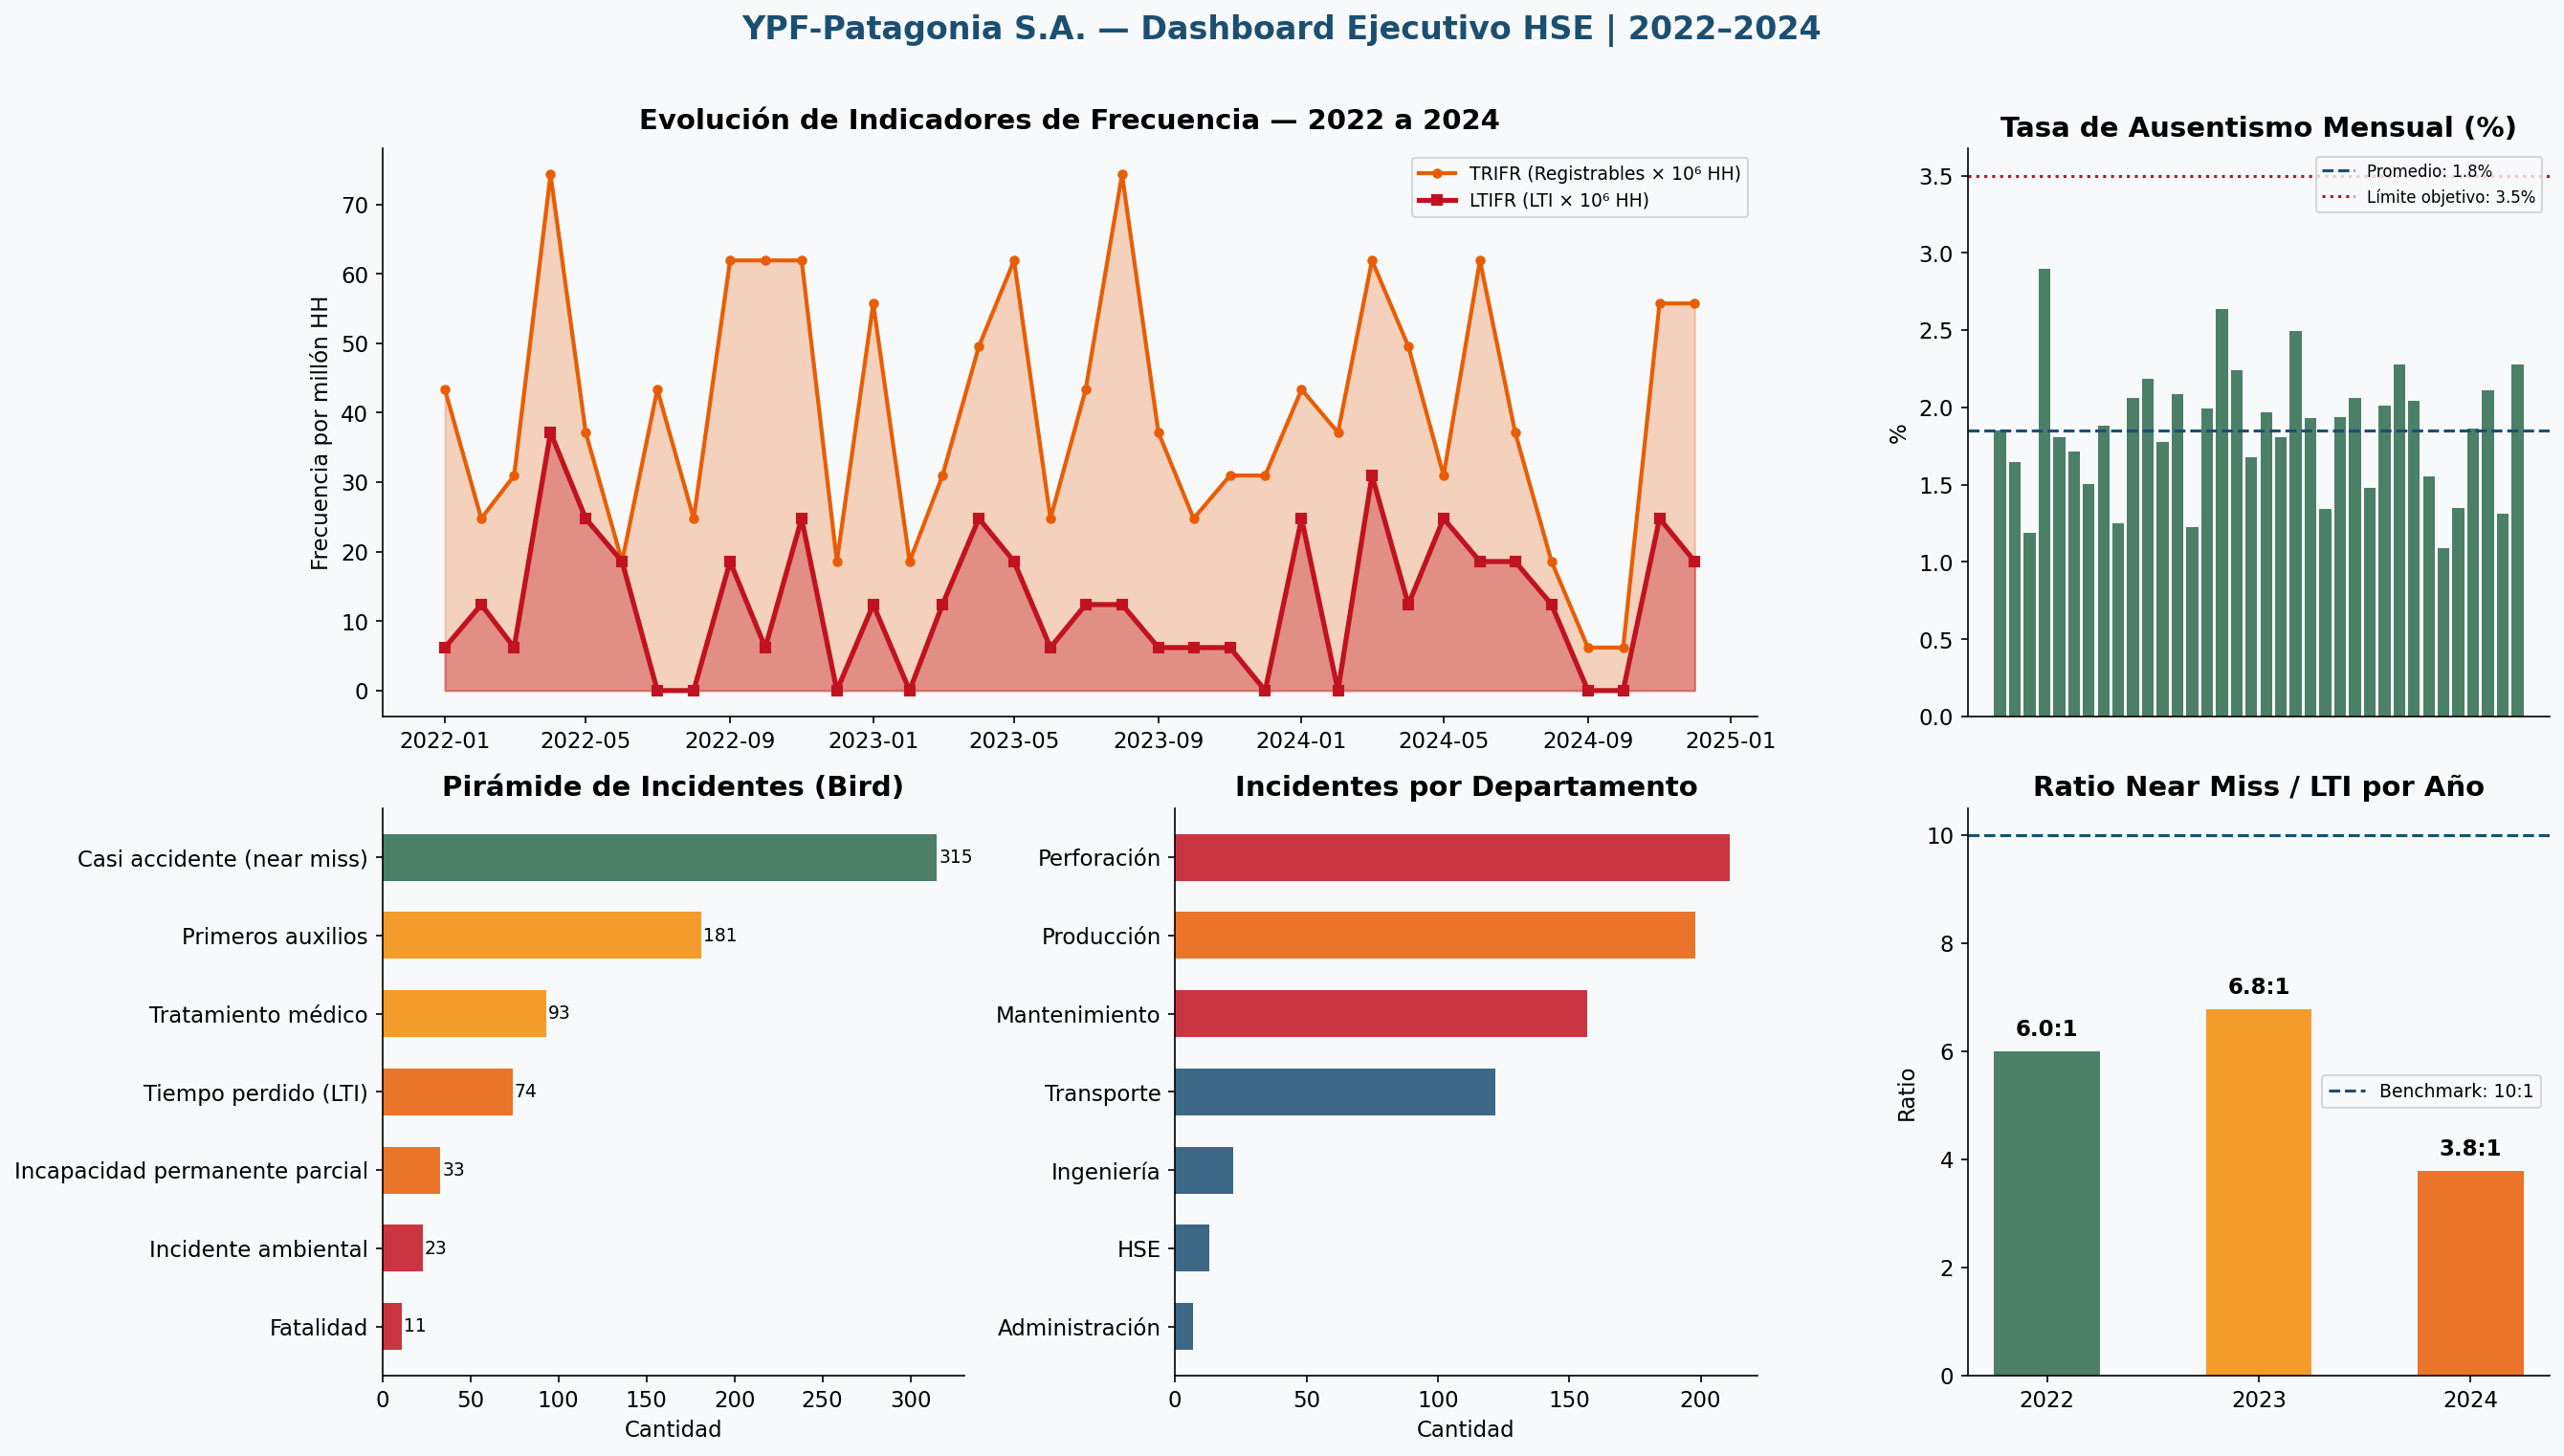

This screenshot's page, from the dashboard's own definition file:
{"tool":"powerbi","page":{"name":"Dashboard Ejecutivo","canvas":[1280,720],"ordinal":0},"visuals":[{"type":"unknown","box":[0,0,1280,60],"z":500},{"type":"unknown","box":[0,55,1280,30],"z":500},{"type":"unknown","box":[14,90,270,100],"z":2000},{"type":"unknown","box":[298,90,270,100],"z":2000},{"type":"unknown","box":[582,90,270,100],"z":2000},{"type":"unknown","box":[866,90,270,100],"z":2000},{"type":"unknown","box":[14,204,620,260],"z":2000},{"type":"unknown","box":[648,204,610,260],"z":2000},{"type":"unknown","box":[14,478,620,220],"z":2000},{"type":"unknown","box":[648,478,610,220],"z":2000}]}

Visuals, with their boxes in screenshot pixels (x1, y1, x2, y2), scaled from the page's 1280x720 canvas onto the 2564x1456 screenshot:
unknown: box=[0, 0, 2563, 121]
unknown: box=[0, 111, 2563, 172]
unknown: box=[28, 182, 569, 385]
unknown: box=[597, 182, 1138, 385]
unknown: box=[1166, 182, 1707, 385]
unknown: box=[1735, 182, 2275, 385]
unknown: box=[28, 412, 1270, 938]
unknown: box=[1298, 412, 2520, 938]
unknown: box=[28, 966, 1270, 1411]
unknown: box=[1298, 966, 2520, 1411]
